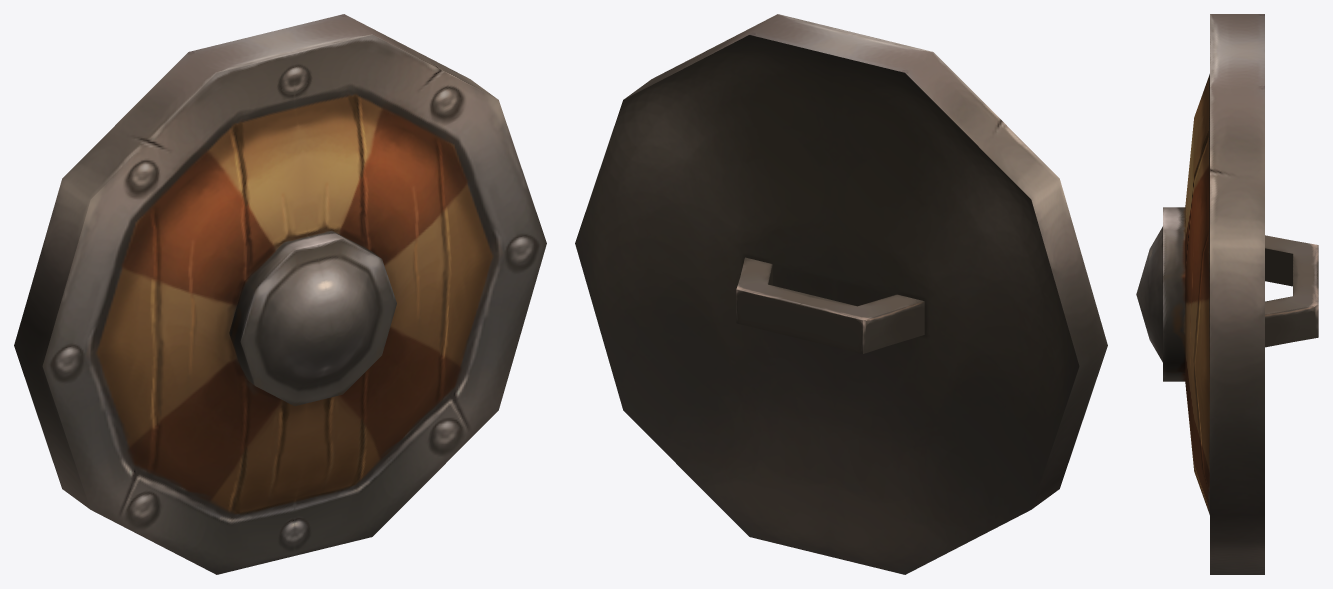
File: 63_shield.FBX
3 views of the same model, side by side, from view 1: azimuth 30°, elevation 25°; view 2: azimuth 150°, elevation 25°; view 3: azimuth 270°, elevation 25° (orthographic). The views are drawn at different scales.
Parts seen in each view (by area): view 1: Cylinder008; view 2: Cylinder008; view 3: Cylinder008.
Boxes of the visible parts, x1,y1,x2,y2 form: Cylinder008: [14, 14, 546, 574]; Cylinder008: [575, 14, 1107, 574]; Cylinder008: [1136, 14, 1318, 574].
Size of the model in its own units: 59.21 by 56.31 by 19.11.
